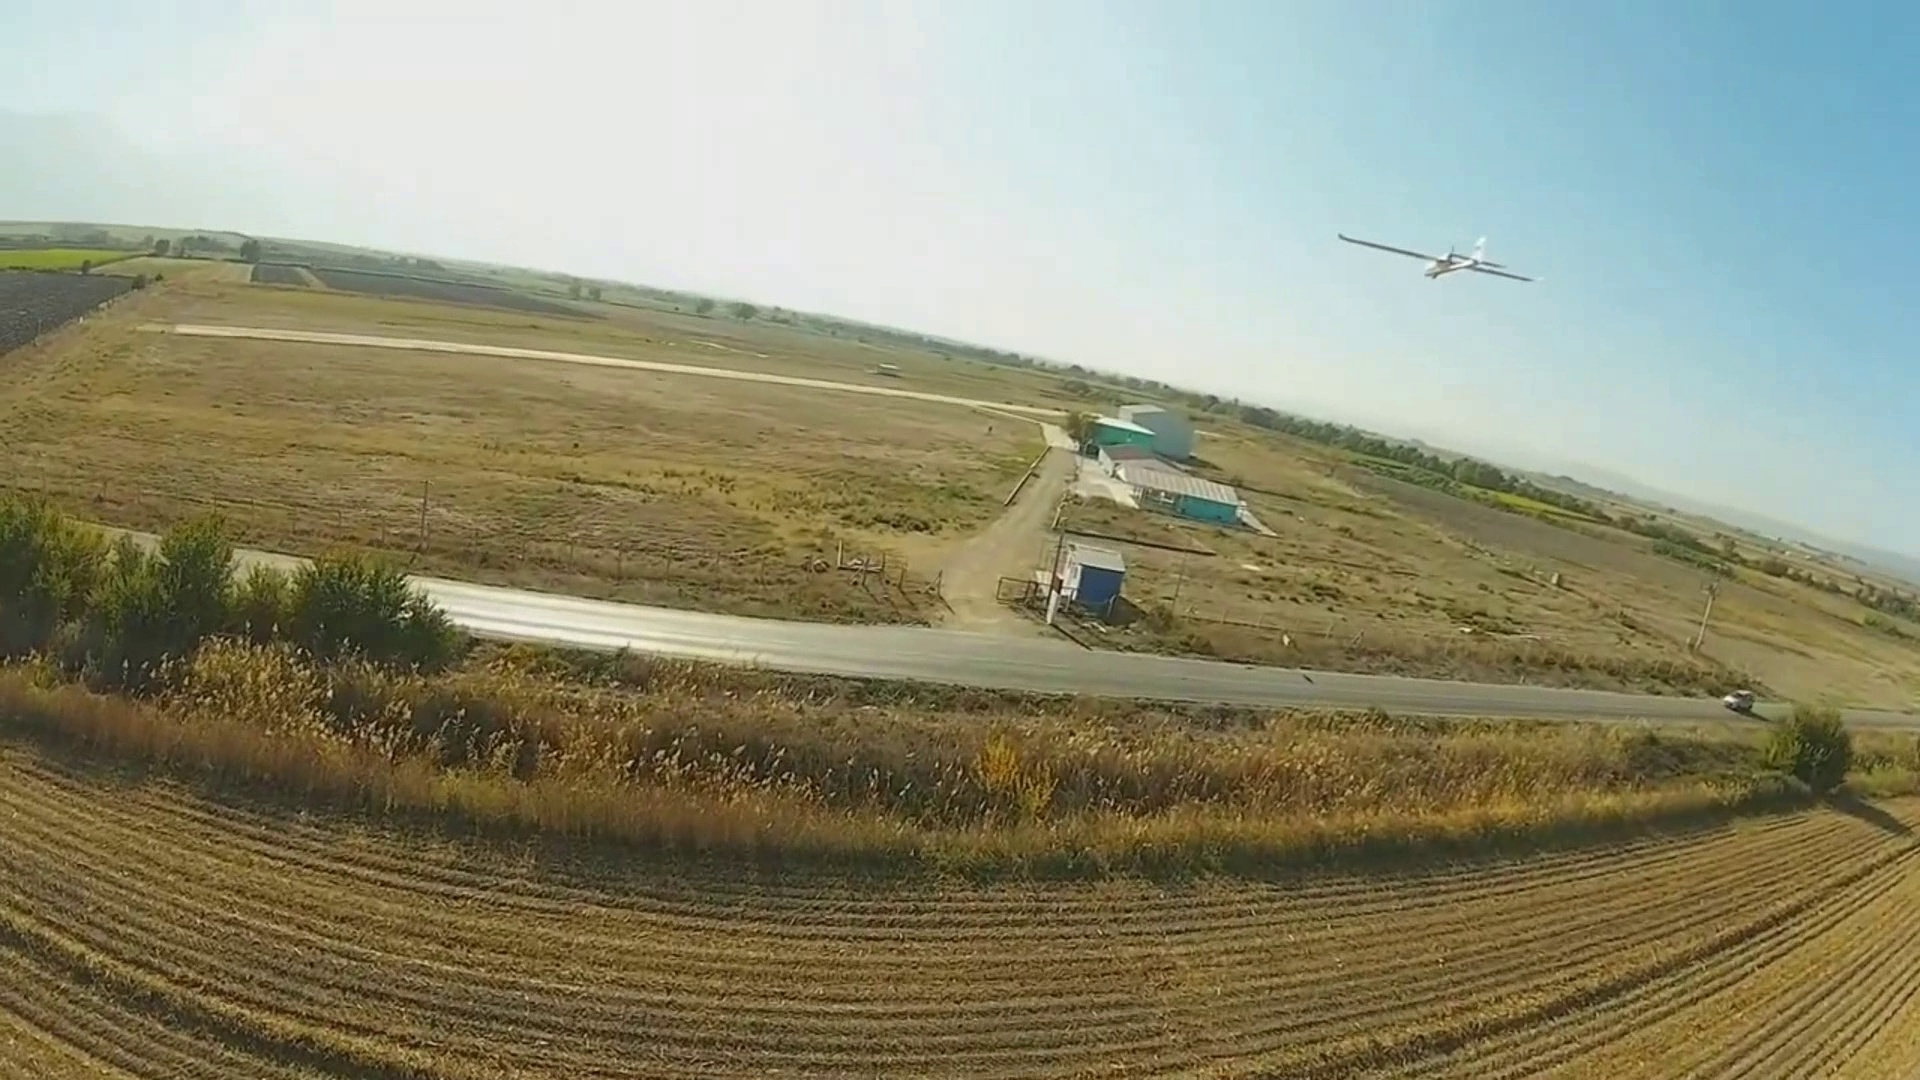airplane: (1333, 224, 1539, 283)
